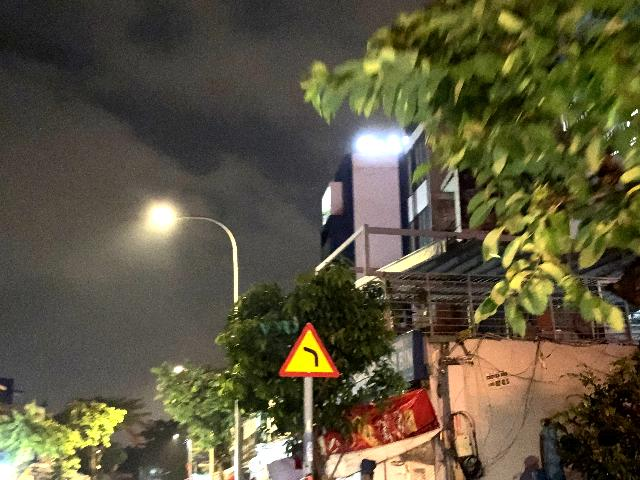cho-ngoat-nguy-hiem-ben-trai: (279, 321, 339, 378)
